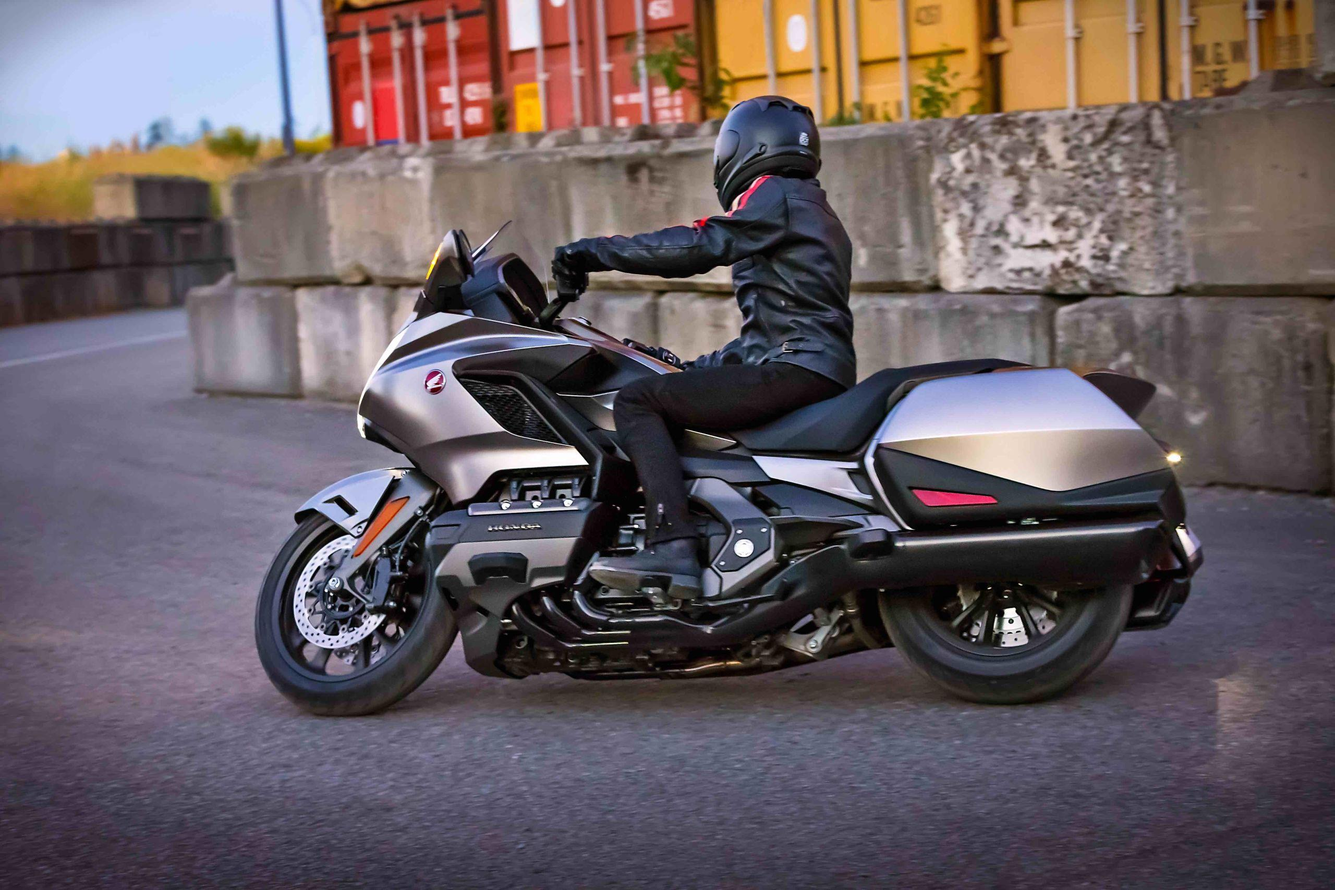helmet: (687, 70, 866, 227)
